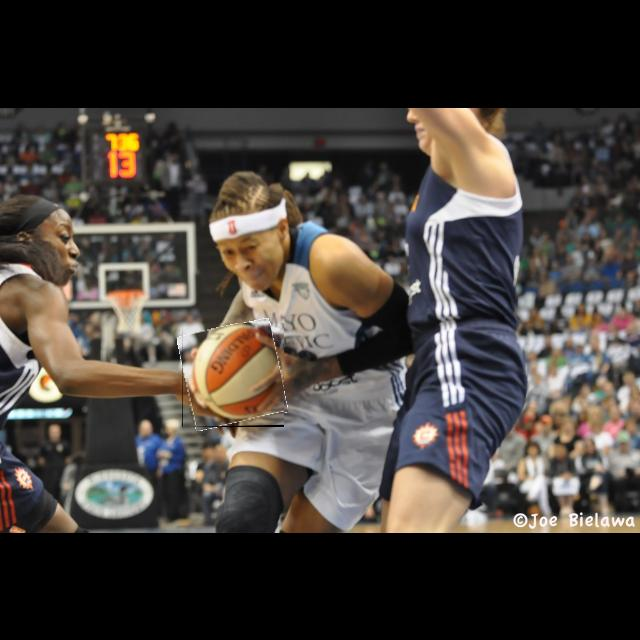Football: (182, 323, 284, 427)
